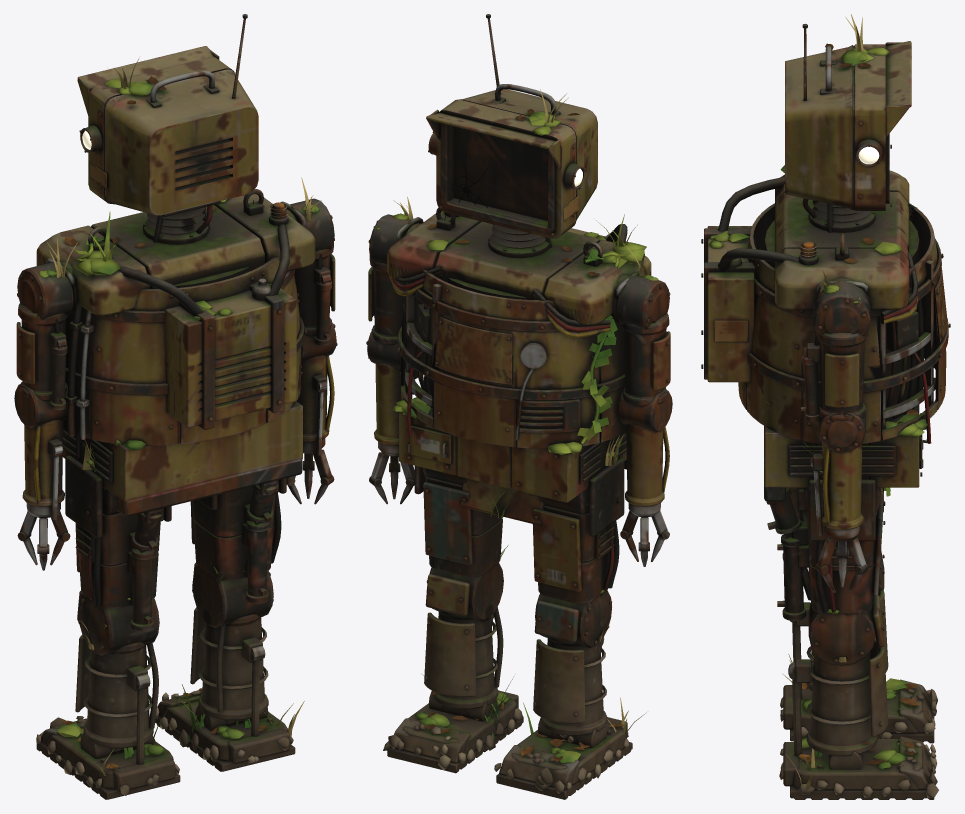
File: gloom_walker_hi.glb
3 views of the same model, side by side, from view 1: azimuth 30°, elevation 25°; view 2: azimuth 150°, elevation 25°; view 3: azimuth 270°, elevation 25° (orthographic). The views are drawn at different scales.
Visible parts, largest first — view 1: torso_m, head_m, knee0_m, knee1_m, pelvis_m, arm0_m, fore0_m, hip0_m, hip1_m, fore1_m, arm1_m, ramc_knee1 (+8 smaller); view 2: torso_m, head_m, knee1_m, knee0_m, hip0_m, hip1_m, fore0_m, arm0_m, pelvis_m, fore1_m, arm1_m, neck_m; view 3: torso_m, knee1_m, head_m, arm1_m, fore1_m, knee0_m, hip1_m, pelvis_m, ramc_knee1, neck_m, ramc_elbow1, ramc_hip1 (+1 smaller).
Boxes of the visible parts, box(x1,y1,x2,y2) form: torso_m: box(36, 189, 315, 502); head_m: box(77, 14, 258, 216); knee0_m: box(36, 591, 180, 799); knee1_m: box(155, 563, 304, 771); pelvis_m: box(65, 440, 302, 538); arm0_m: box(16, 239, 77, 400); fore0_m: box(14, 382, 70, 570); hip0_m: box(75, 441, 160, 609); hip1_m: box(190, 486, 281, 581); fore1_m: box(286, 318, 337, 504); arm1_m: box(290, 177, 335, 336); ramc_knee1: box(245, 520, 269, 603); torso_m: box(387, 207, 651, 502); head_m: box(426, 14, 597, 238); knee1_m: box(383, 545, 523, 773); knee0_m: box(494, 589, 646, 799); hip0_m: box(532, 432, 625, 603); hip1_m: box(422, 467, 502, 577); fore0_m: box(617, 387, 672, 566); arm0_m: box(616, 245, 670, 406); pelvis_m: box(414, 434, 626, 536); fore1_m: box(366, 325, 414, 504); arm1_m: box(368, 196, 416, 344); neck_m: box(492, 224, 551, 248); torso_m: box(701, 165, 950, 487); knee1_m: box(779, 595, 938, 799); head_m: box(785, 14, 911, 210); arm1_m: box(807, 264, 870, 421); fore1_m: box(812, 412, 868, 592); knee0_m: box(780, 549, 937, 743); hip1_m: box(792, 443, 885, 613); pelvis_m: box(764, 426, 890, 541); ramc_knee1: box(777, 532, 806, 620); neck_m: box(802, 198, 870, 232); ramc_elbow1: box(801, 346, 820, 421); ramc_hip1: box(767, 487, 801, 534).
Size of the model in its own units: 1.1 by 2.48 by 0.744.
2 materials, 1 textured.
